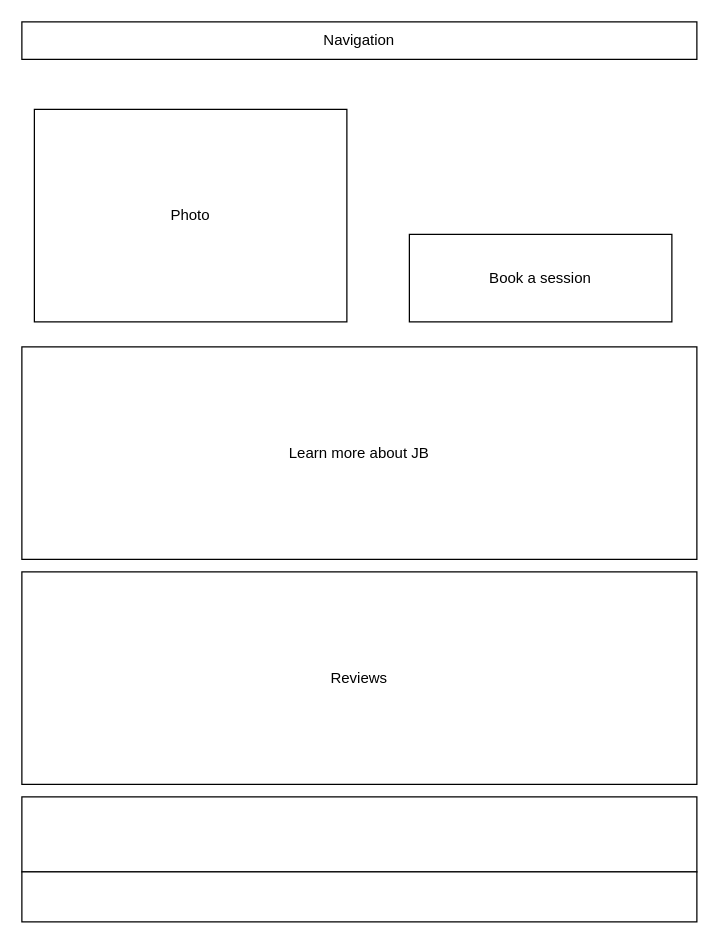
Some shapes in this 719 by 944 pixel diagram are drawn without their labels. The shapes that lost their labels are listed below. From the top down, each one's box as (x1, y1, x2, y2) in pixels, then its label:
(21, 796, 697, 872): Social Media Footer
(21, 871, 697, 922): FOOTER
